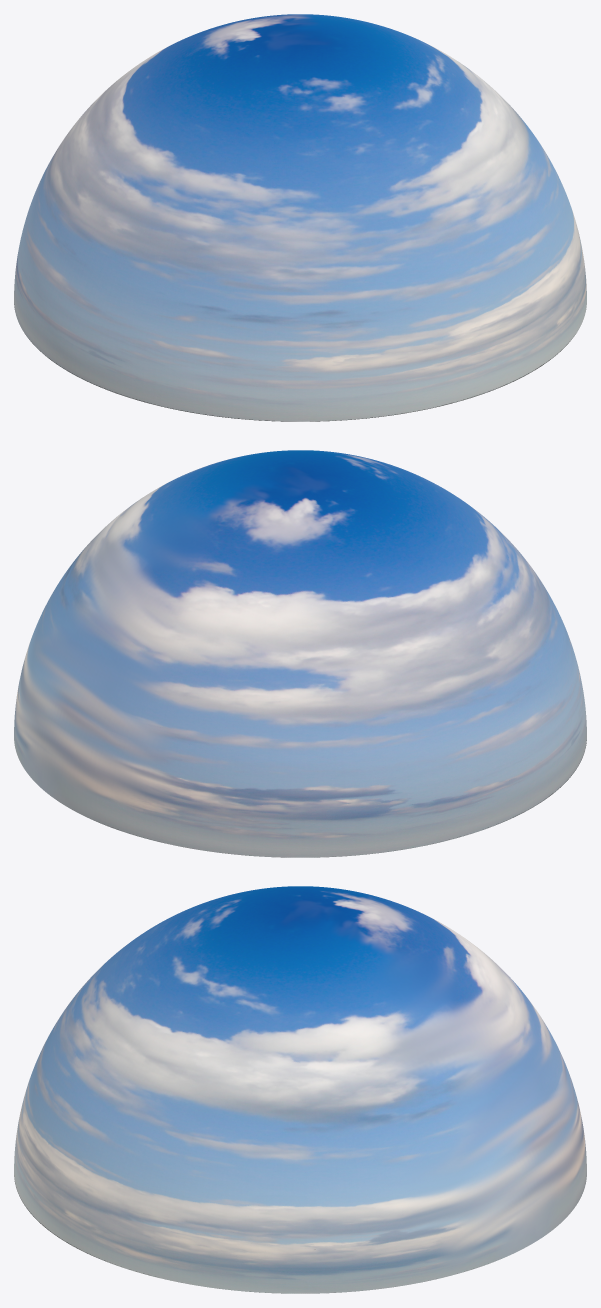
Rendered from skysphere.glb.
3 renders of one model, top to bottom at view 1: azimuth 30°, elevation 25°; view 2: azimuth 150°, elevation 25°; view 3: azimuth 270°, elevation 25°, orthographic.
Visible parts, largest first — view 1: Sphere.001; view 2: Sphere.001; view 3: Sphere.001.
Part boxes in pixels (left/top/right/bottom): Sphere.001: left=14, top=14, right=586, bottom=421; Sphere.001: left=14, top=450, right=586, bottom=857; Sphere.001: left=14, top=886, right=586, bottom=1293.
Bounding box in the file's own units: 2 × 1 × 2.
1 material, 1 textured.
